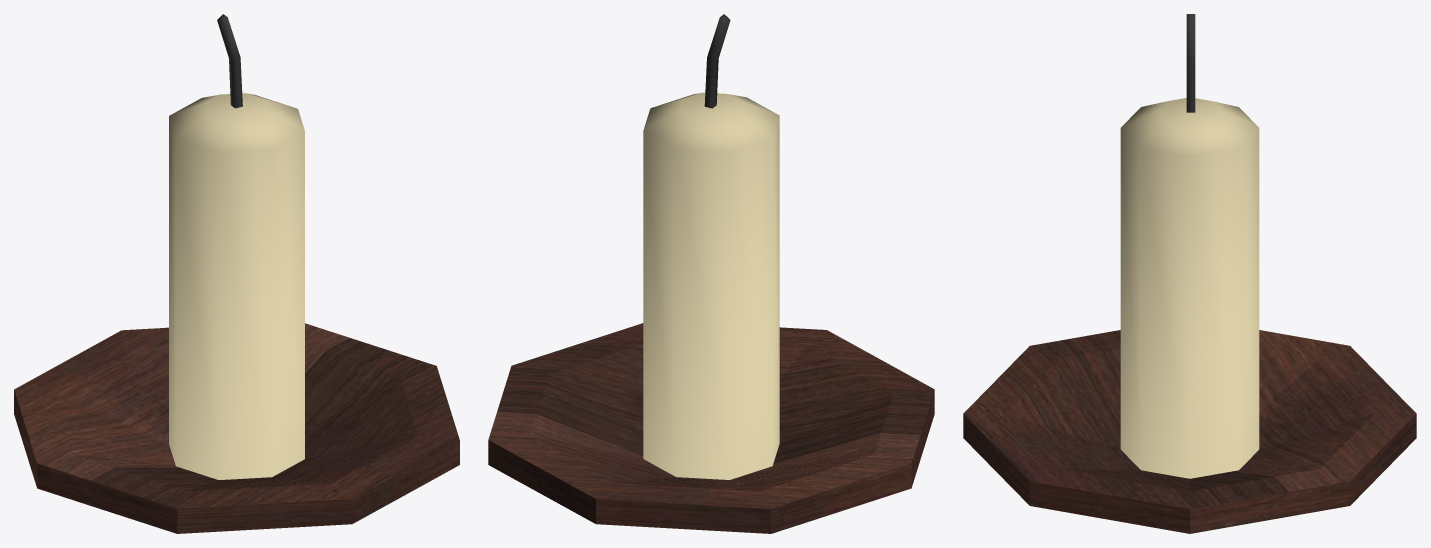
Rendered from BougieMedievale.fbx.
3 renders of one model, left to right at view 1: azimuth 30°, elevation 25°; view 2: azimuth 150°, elevation 25°; view 3: azimuth 270°, elevation 25°, orthographic.
Parts seen in each view (by area): view 1: BougieMedievale; view 2: BougieMedievale; view 3: BougieMedievale.
Boxes of the visible parts, <box> form: BougieMedievale: <box>14,14,459,533</box>; BougieMedievale: <box>488,14,934,533</box>; BougieMedievale: <box>963,14,1416,533</box>.
Bounding box in the file's own units: 19.62 × 21.55 × 19.62.
